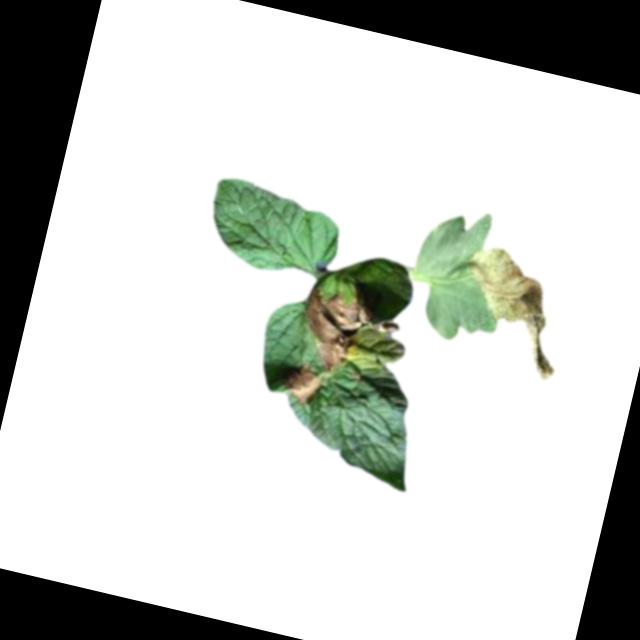Late_blight: (443, 240, 581, 385), (293, 279, 408, 385), (279, 362, 331, 410)
